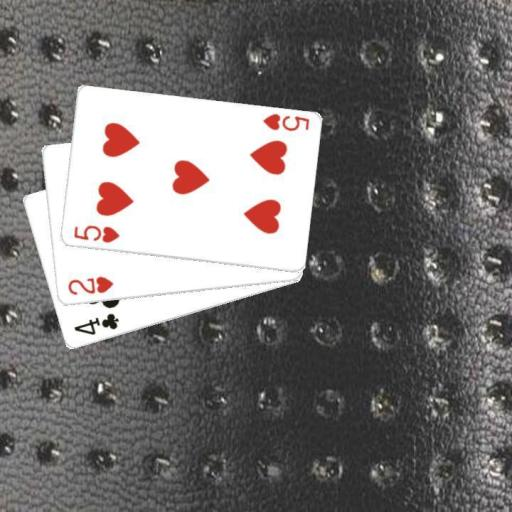card-corner: (70, 310, 120, 337), (64, 274, 114, 297), (70, 222, 121, 244), (259, 111, 310, 133)
